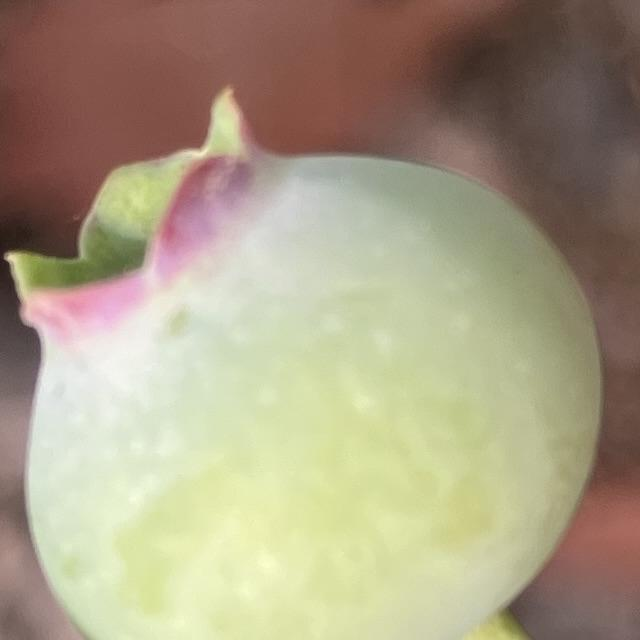Blueberries: (1, 83, 606, 640)
